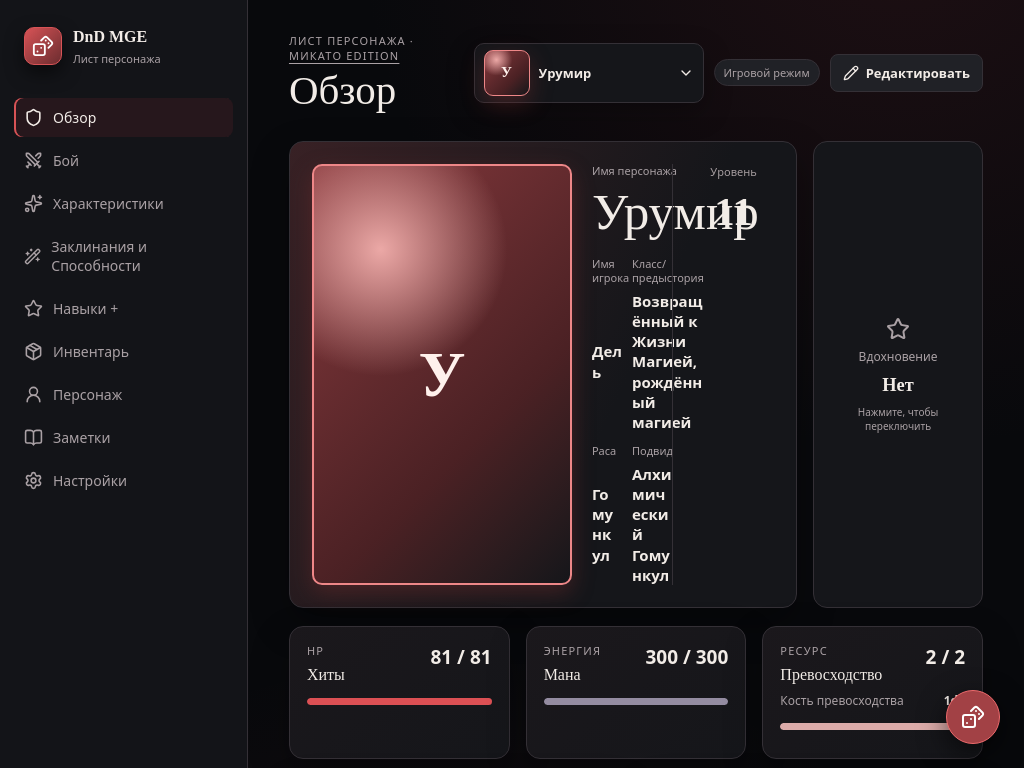
Scenario: игровые представления листа › показывает инициативу в боевых параметрах и отдельные заметки персонажа
Click the button "Персонаж" at (124, 394), box [14,375,233,414]
(page scrolled)
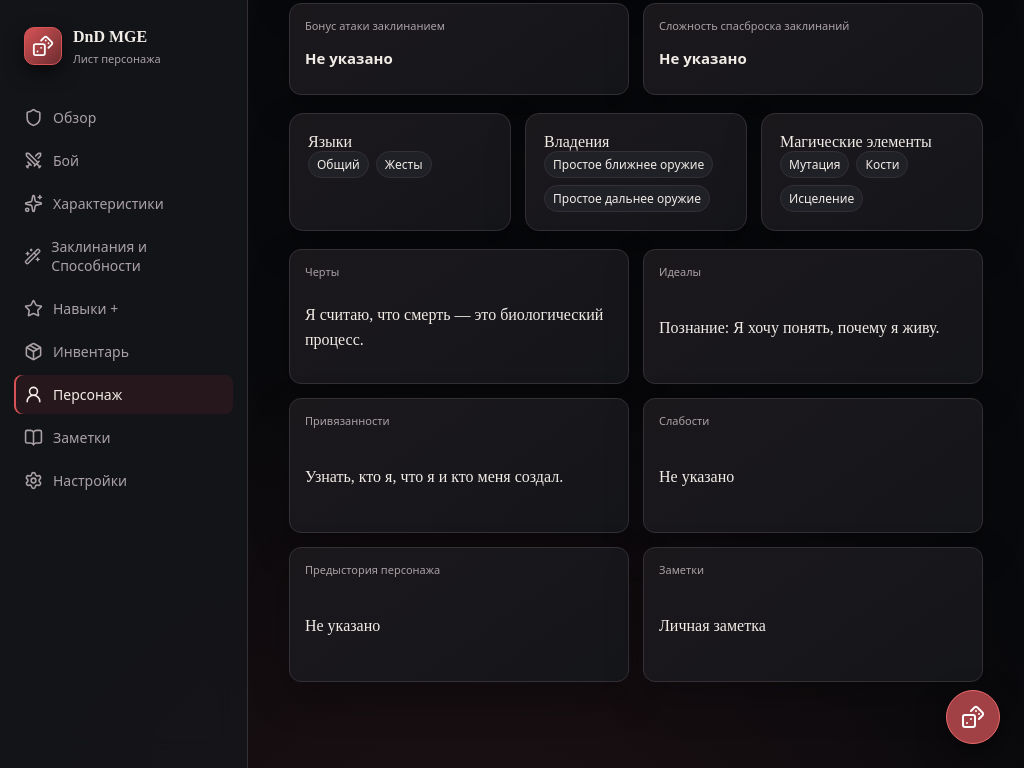
Expected: the 1st text "Заметки" is shown, [53,428,110,447]
Now the text "Личная заметка" is shown, box [659,616,766,634]
